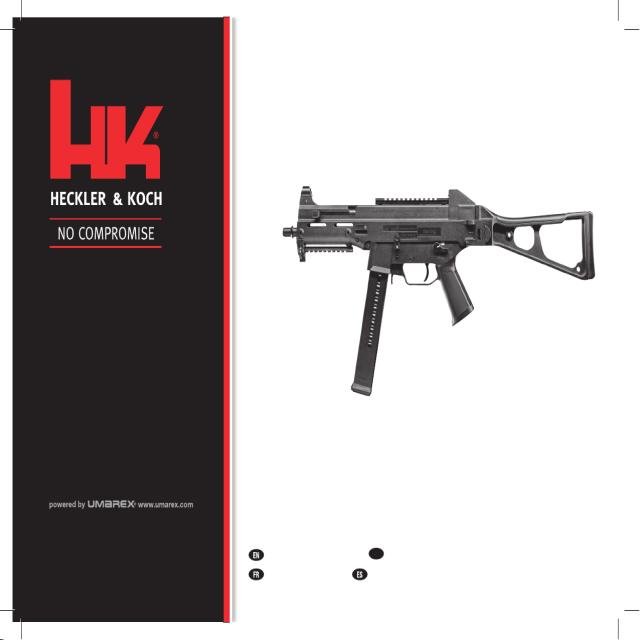SMG: (282, 186, 596, 398)
